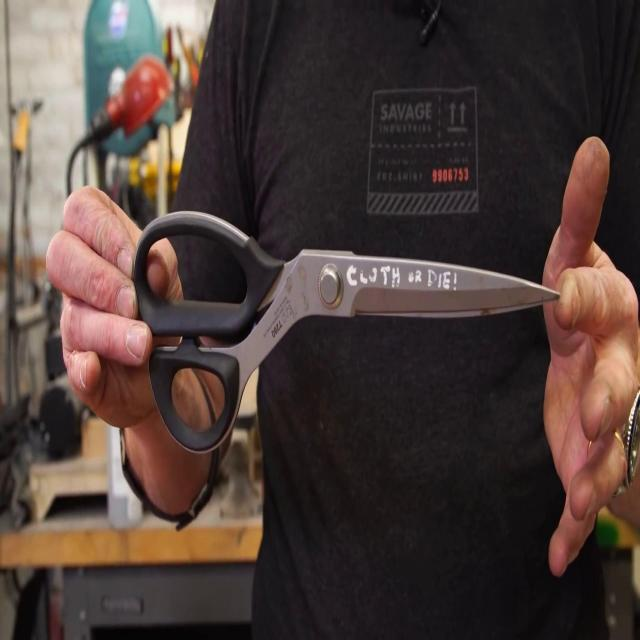scissor: (133, 209, 562, 455)
